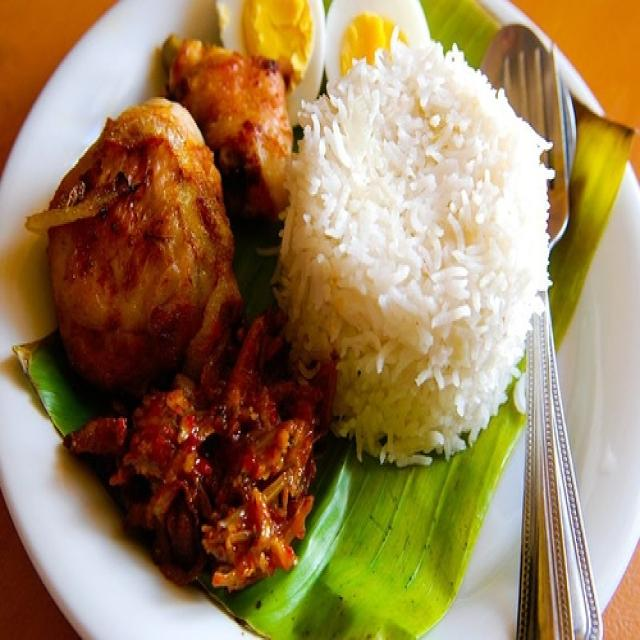米饭主食: (13, 9, 613, 625)
